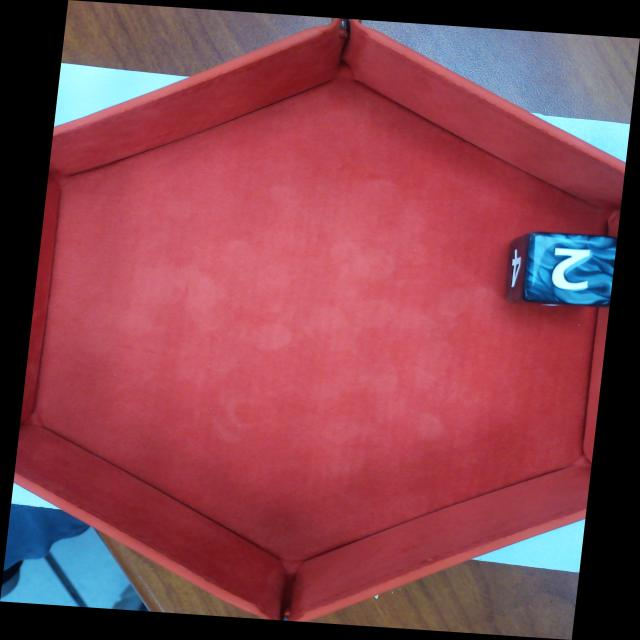dice: (525, 233, 617, 306)
